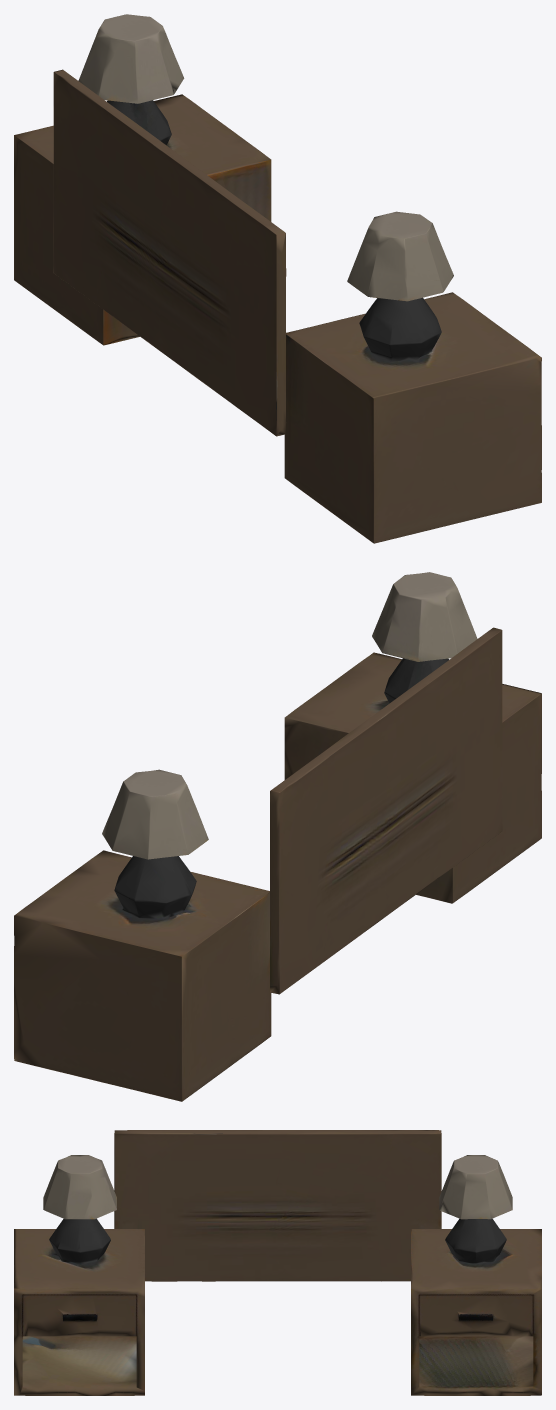
Rendered from mesitas de noche.fbx.
The picture shows the model from 3 angles, top to bottom: view 1: azimuth 30°, elevation 25°; view 2: azimuth 150°, elevation 25°; view 3: azimuth 270°, elevation 25°; orthographic projection. The views are drawn at different scales.
Visible parts, largest first — view 1: tripo_node_ed6582a6; view 2: tripo_node_ed6582a6; view 3: tripo_node_ed6582a6.
Boxes of the visible parts, x1,y1,x2,y2 form: tripo_node_ed6582a6: (14,14,541,543); tripo_node_ed6582a6: (14,572,541,1101); tripo_node_ed6582a6: (14,1130,541,1395).
Size of the model in its own units: 0.3245 by 0.4117 by 0.9999.
1 material, 1 textured.
